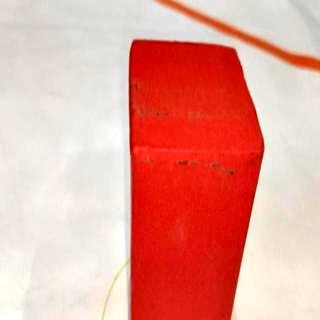redbox: (127, 35, 264, 320)
